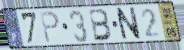2: (141, 7, 162, 39)
3: (69, 8, 89, 44)
7: (20, 11, 39, 46)
B: (88, 8, 114, 43)
N: (114, 6, 143, 43)
P: (38, 10, 61, 45)
